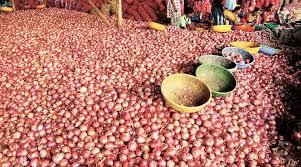Organic: (2, 1, 301, 163)
